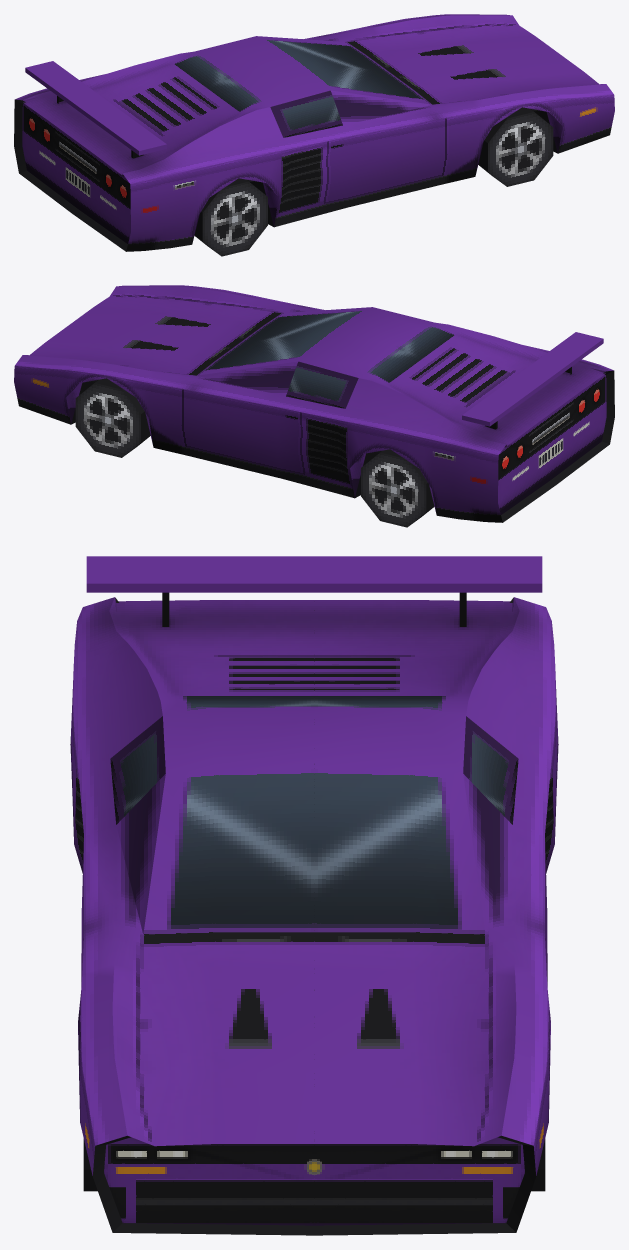
File: strix-far.glb
The picture shows the model from 3 angles, top to bottom: view 1: azimuth 30°, elevation 25°; view 2: azimuth 150°, elevation 25°; view 3: azimuth 270°, elevation 25°; orthographic projection. The views are drawn at different scales.
Visible parts, largest first — view 1: body, wheel front right, wheel rear right; view 2: body, wheel front left, wheel rear left; view 3: body.
Part boxes in pixels (bbox=[...]): body: bbox=[14, 14, 614, 251]; wheel front right: bbox=[478, 107, 553, 186]; wheel rear right: bbox=[194, 178, 267, 256]; body: bbox=[14, 285, 614, 522]; wheel front left: bbox=[75, 378, 150, 457]; wheel rear left: bbox=[361, 449, 434, 527]; body: bbox=[70, 556, 558, 1235].
Bounding box in the file's own units: 4.18 × 1.02 × 1.81.
Materials: 1 (1 with a texture image).
